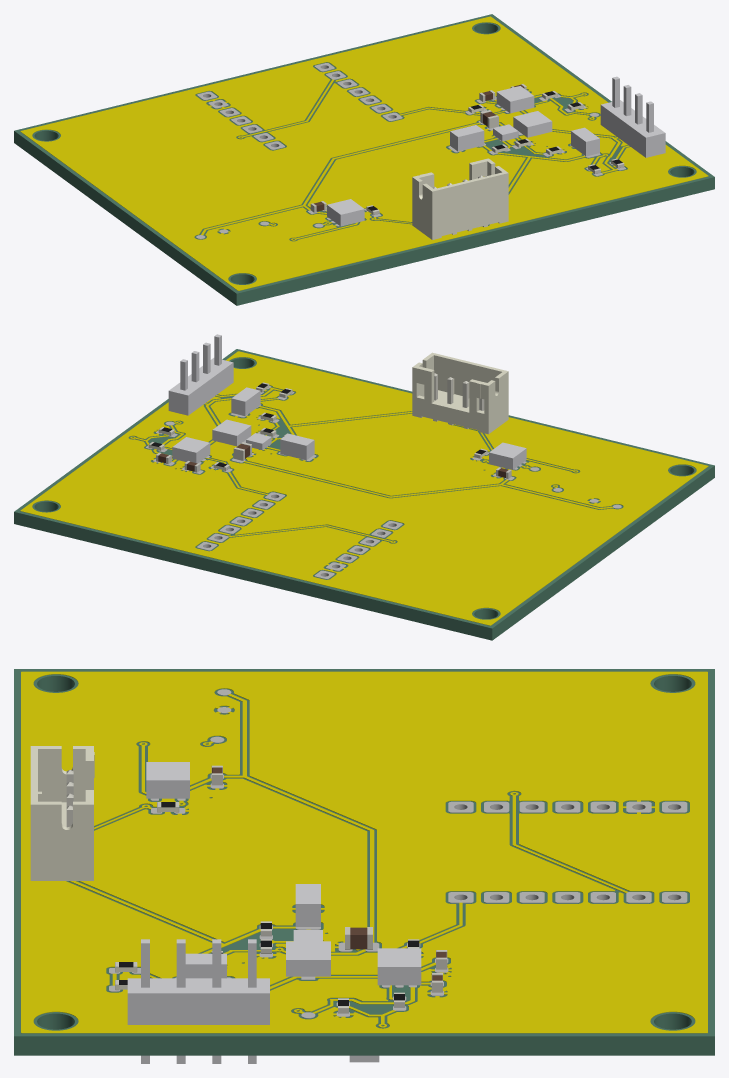
The model's file is pcb-carrier.glb.
The picture shows the model from 3 angles, top to bottom: view 1: azimuth 30°, elevation 25°; view 2: azimuth 150°, elevation 25°; view 3: azimuth 270°, elevation 25°; orthographic projection. The views are drawn at different scales.
Visible parts, largest first — view 1: carrier (×6); view 2: carrier (×6); view 3: carrier (×7).
Boxes of the visible parts, x1=… form: carrier (×6): x1=14, y1=14, x2=714, y2=305; carrier (×6): x1=14, y1=334, x2=714, y2=640; carrier (×7): x1=14, y1=669, x2=714, y2=1063.
Size of the model in its own units: 0.062 by 0.0095 by 0.05.
